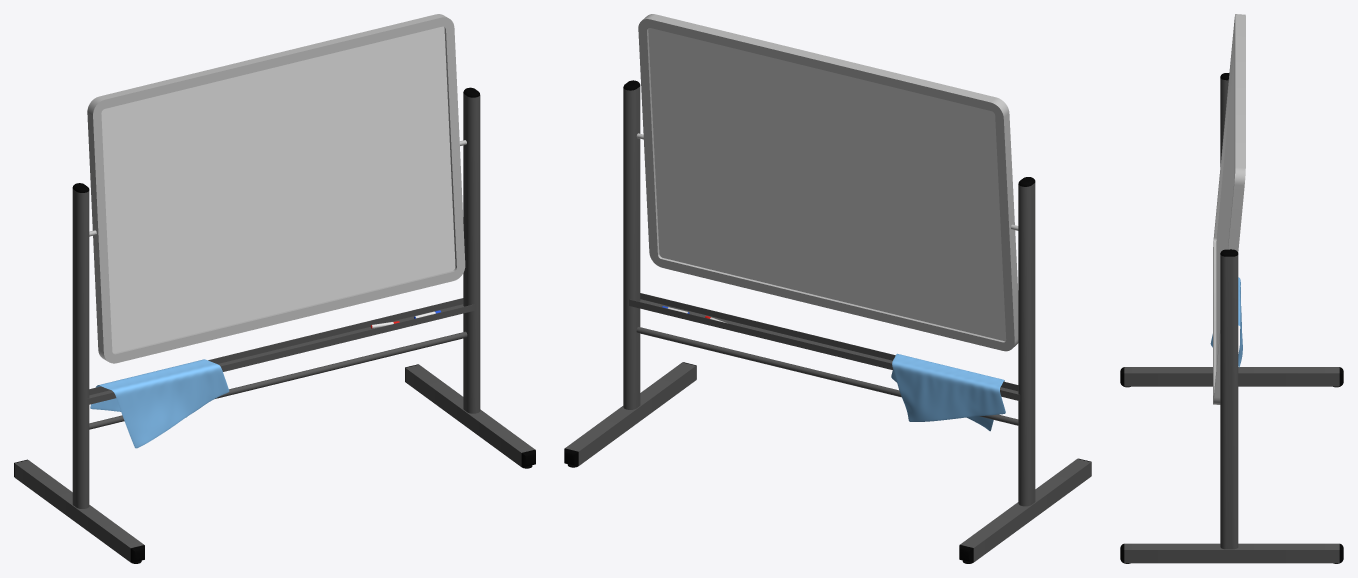
The model's file is whiteboard.fbx.
3 renders of one model, left to right at view 1: azimuth 30°, elevation 25°; view 2: azimuth 150°, elevation 25°; view 3: azimuth 270°, elevation 25°, orthographic. The views are drawn at different scales.
Parts seen in each view (by area): view 1: board; view 2: board; view 3: board.
Part boxes in pixels (<box>): board: <box>14,14,535,563</box>; board: <box>564,14,1091,563</box>; board: <box>1120,14,1343,563</box>.
Bounding box in the file's own units: 241 × 235 × 125.
